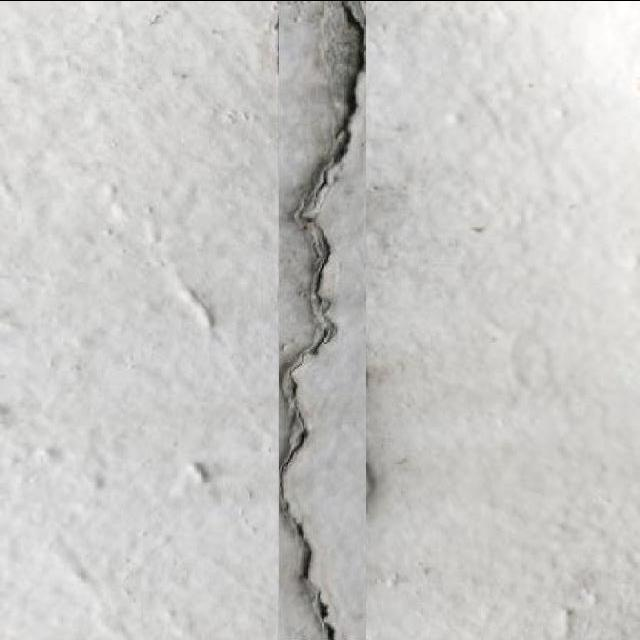crack: (275, 0, 367, 639)
